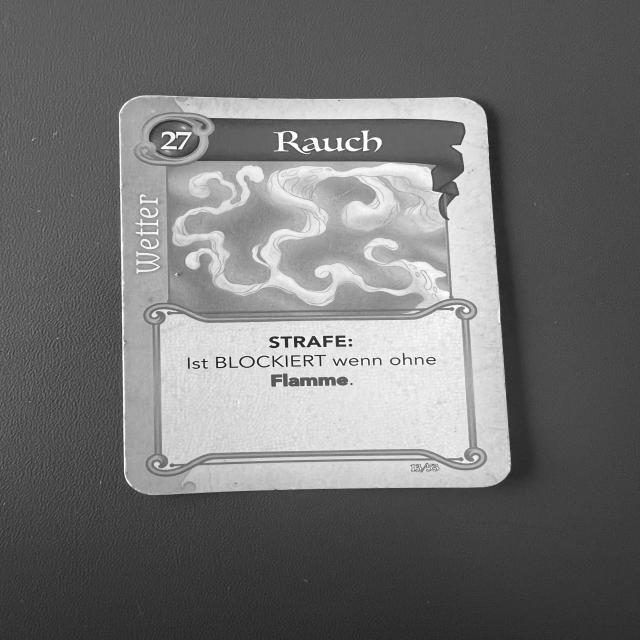Smoke: (106, 86, 525, 509)
